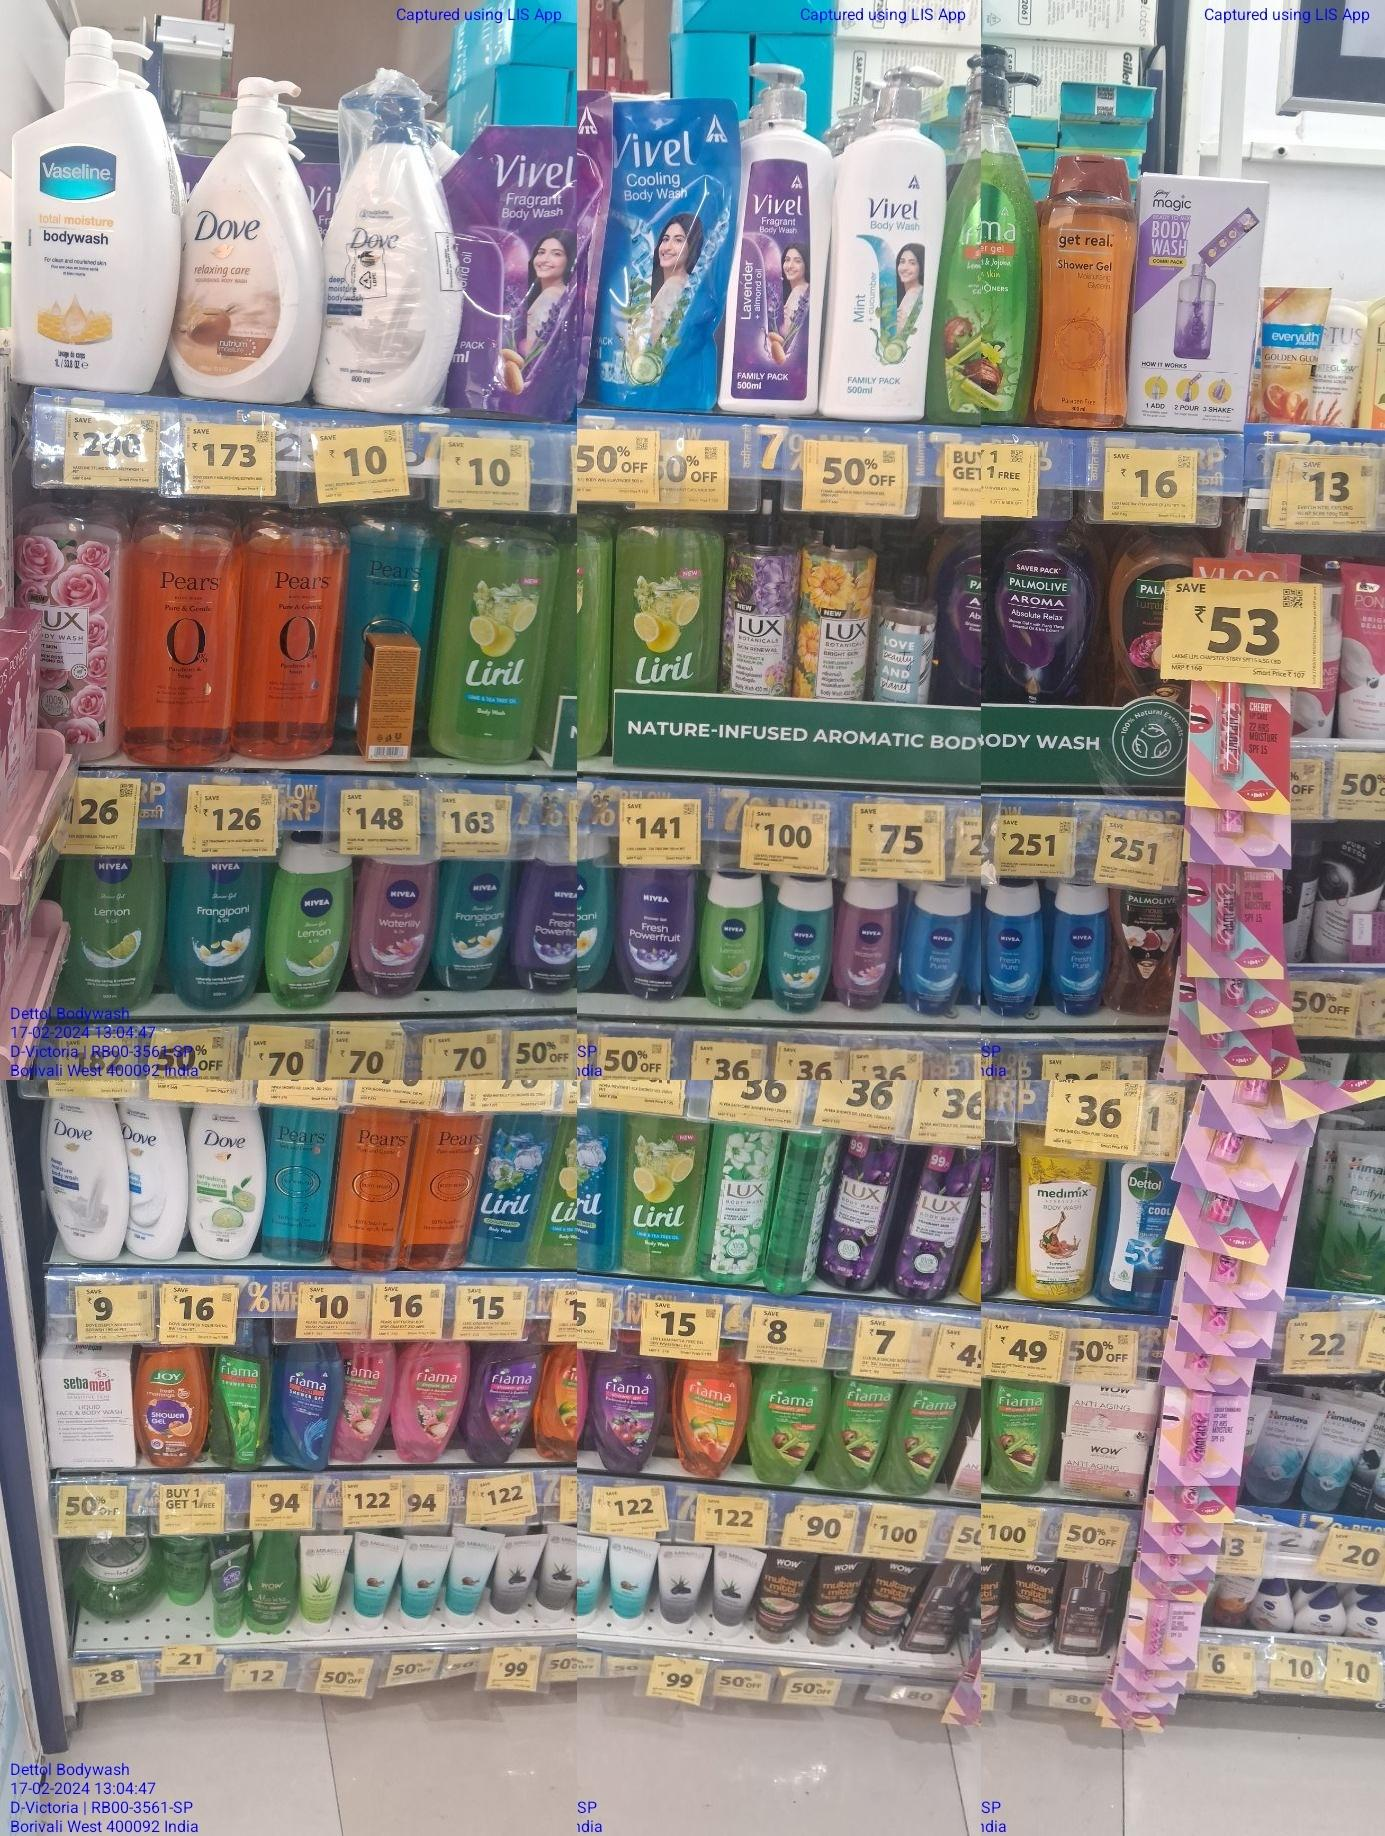Dettol_Bodywash_Cool: (1107, 1148, 1190, 1320)
Dove_Deep_Moisture_Body_Wash_250ML: (42, 1097, 131, 1263)
Dove_Gentle_Exfoliating_Body_Wash_250ML: (135, 1094, 186, 1260)
Dove_Refreshing_Body_Wash_250ML: (192, 1104, 265, 1261)
Fiama_Shower_Gel_Lemongrass_and_Jojoba_250ML: (751, 1366, 832, 1484)
Fiama_Shower_Gel_Patchouli_and_Macadamia_250ML: (399, 1340, 470, 1459), (340, 1343, 393, 1462)
Fiama_Shower_Gel_Peach_and_Avocado_250ML: (672, 1357, 751, 1482)
Joy_Shower_Gel_Mandarin_and_Lemongrass_250ML: (131, 1344, 207, 1468)
Lux_Black_Orchid_Scent_and_Juniper_Oil_Body_Wash_245ML: (912, 1143, 979, 1301), (831, 1138, 901, 1288)
Lux_Body_Wash_Skin_Detox_Freesia_Scent_and_Alove_Vera_245ML: (706, 1125, 780, 1282)
Nivea_Shower_Gel_Frangipani_and_Oil_250ML: (173, 863, 263, 1011), (444, 861, 512, 992)
Nivea_Shower_Gel_Fresh_Powerfruit_250ML: (621, 864, 695, 1002)
Nivea_Shower_Gel_Lemon_and_Oil_250ML: (63, 857, 163, 1011), (271, 838, 349, 1010)
Nivea_Shower_Gel_Waterlily_and_Oil_250ML: (361, 853, 435, 998)
Pears_Pure_Glycerin_and_Mint_Extracts_Body_Wash_250ML: (268, 1106, 336, 1264)
